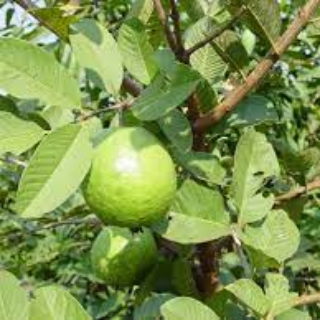oi: (80, 124, 181, 232)
